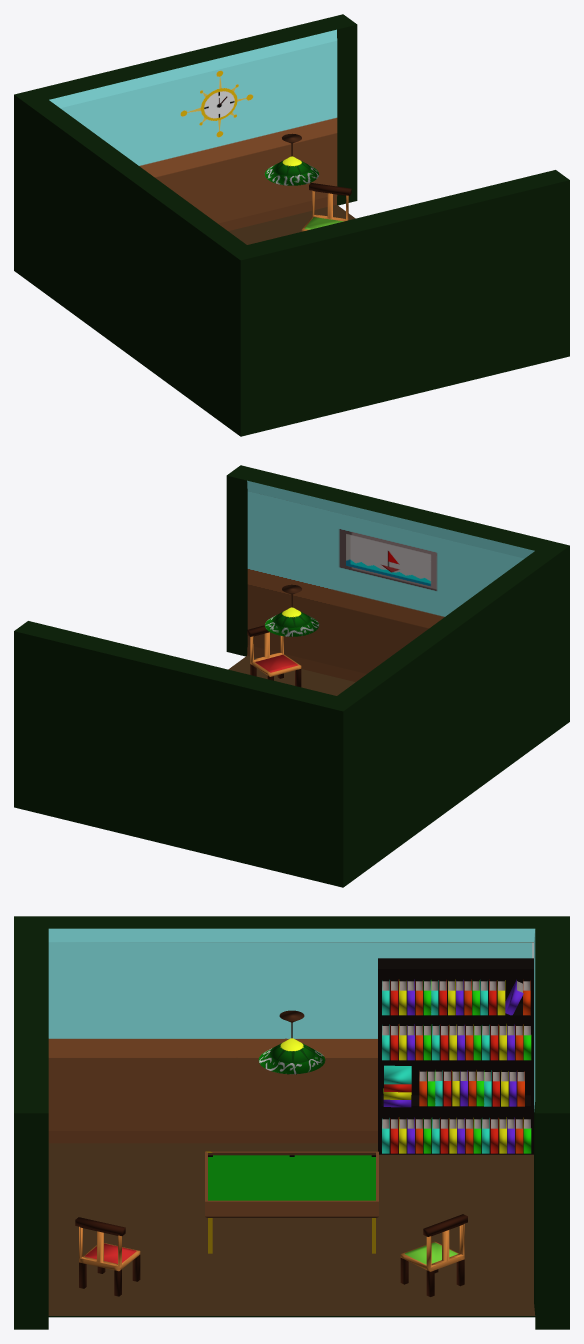
Rendered from Room_Open.obj.
3 renders of one model, top to bottom at view 1: azimuth 30°, elevation 25°; view 2: azimuth 150°, elevation 25°; view 3: azimuth 270°, elevation 25°, orthographic. The views are drawn at different scales.
Parts seen in each view (by area): view 1: Floor_Cube, Cone, Chair_1_Cube.001; view 2: Floor_Cube, Chair_2_Cube.003, Cone; view 3: Floor_Cube, Book_Shelf_Cube.004, Table_Cube.002, Chair_1_Cube.001, Chair_2_Cube.003, Cone, Book_2.006_Cube.045.
Part boxes in pixels (box(x1,y1,x2,y2)): Floor_Cube: box(14, 14, 569, 436); Cone: box(264, 133, 318, 185); Chair_1_Cube.001: box(301, 182, 351, 231); Floor_Cube: box(14, 465, 569, 887); Chair_2_Cube.003: box(247, 625, 301, 687); Cone: box(265, 584, 319, 636); Floor_Cube: box(14, 916, 569, 1329); Book_Shelf_Cube.004: box(378, 958, 533, 1154); Table_Cube.002: box(205, 1151, 378, 1253); Chair_1_Cube.001: box(400, 1214, 467, 1296); Chair_2_Cube.003: box(75, 1217, 140, 1296); Cone: box(258, 1010, 325, 1074); Book_2.006_Cube.045: box(384, 1065, 411, 1084).
Bounding box in the file's own units: 33.69 × 17.23 × 40.17.
